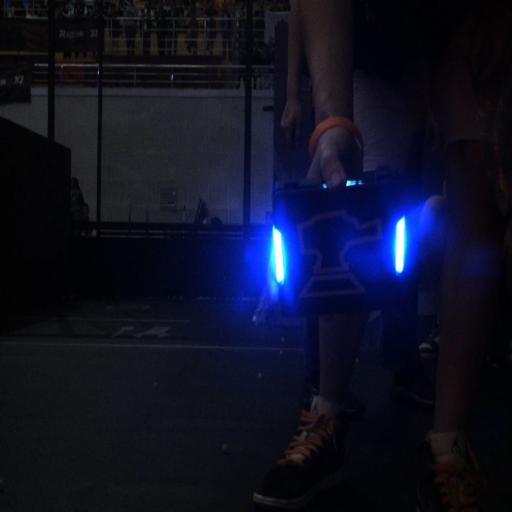target: (268, 184, 403, 314)
